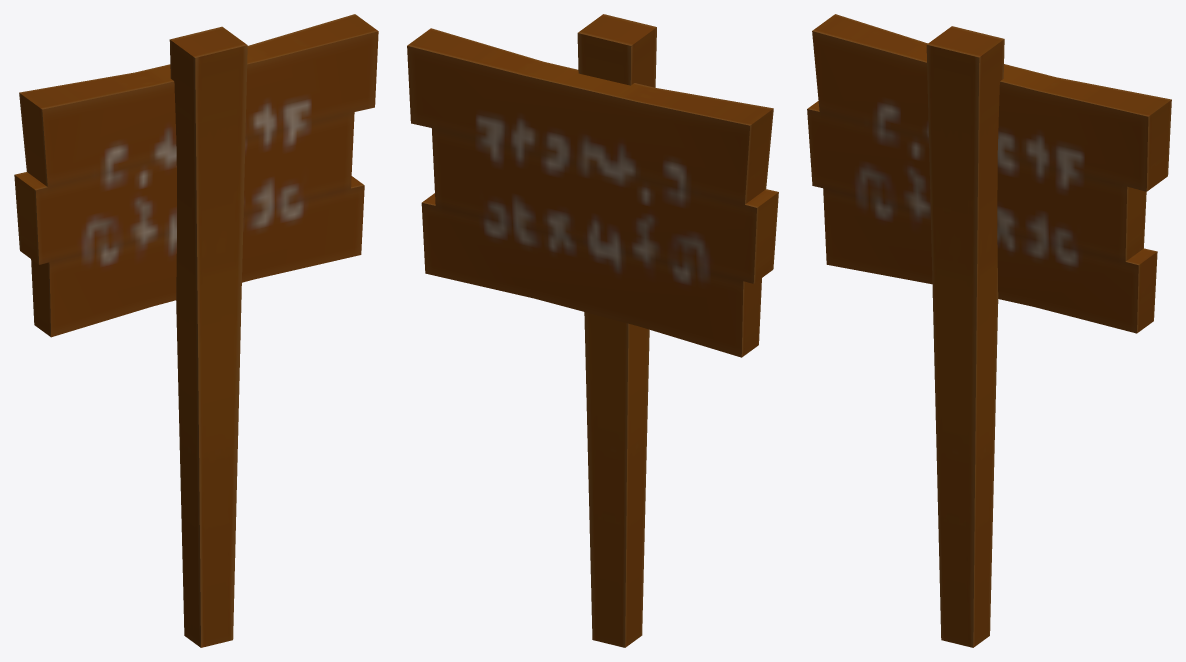
File: HOS0910013.fbx
3 renders of one model, left to right at view 1: azimuth 30°, elevation 25°; view 2: azimuth 150°, elevation 25°; view 3: azimuth 330°, elevation 25°, orthographic. The views are drawn at different scales.
Parts seen in each view (by area): view 1: smHOS0910013; view 2: smHOS0910013; view 3: smHOS0910013.
Boxes of the visible parts, box(x1,y1,x2,y2) form: smHOS0910013: box(14, 14, 378, 647); smHOS0910013: box(407, 14, 778, 647); smHOS0910013: box(807, 14, 1171, 647).
Size of the model in its own units: 112 by 186 by 24.16.
Materials: 1 (1 with a texture image).
